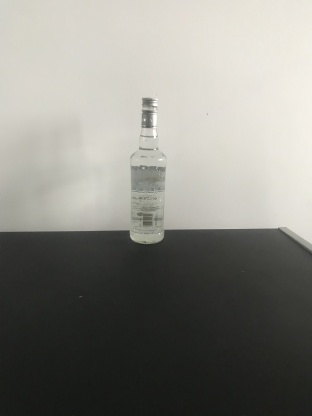nakretka: (135, 89, 158, 125), (140, 95, 158, 128)
